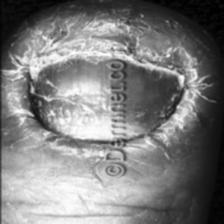Toxin: (0, 0, 112, 124)
